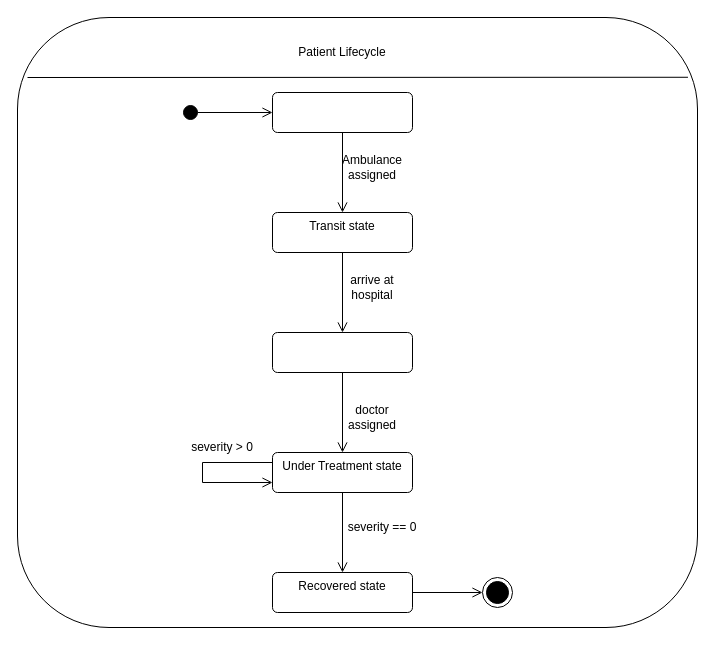
Some shapes in this 715 by 645 pixel diagram are drawn without their labels. Here are the shapes that lost their labels. From the top down, the centre of each, then its label:
point (342, 112): Waiting state
point (342, 352): Admitted state
